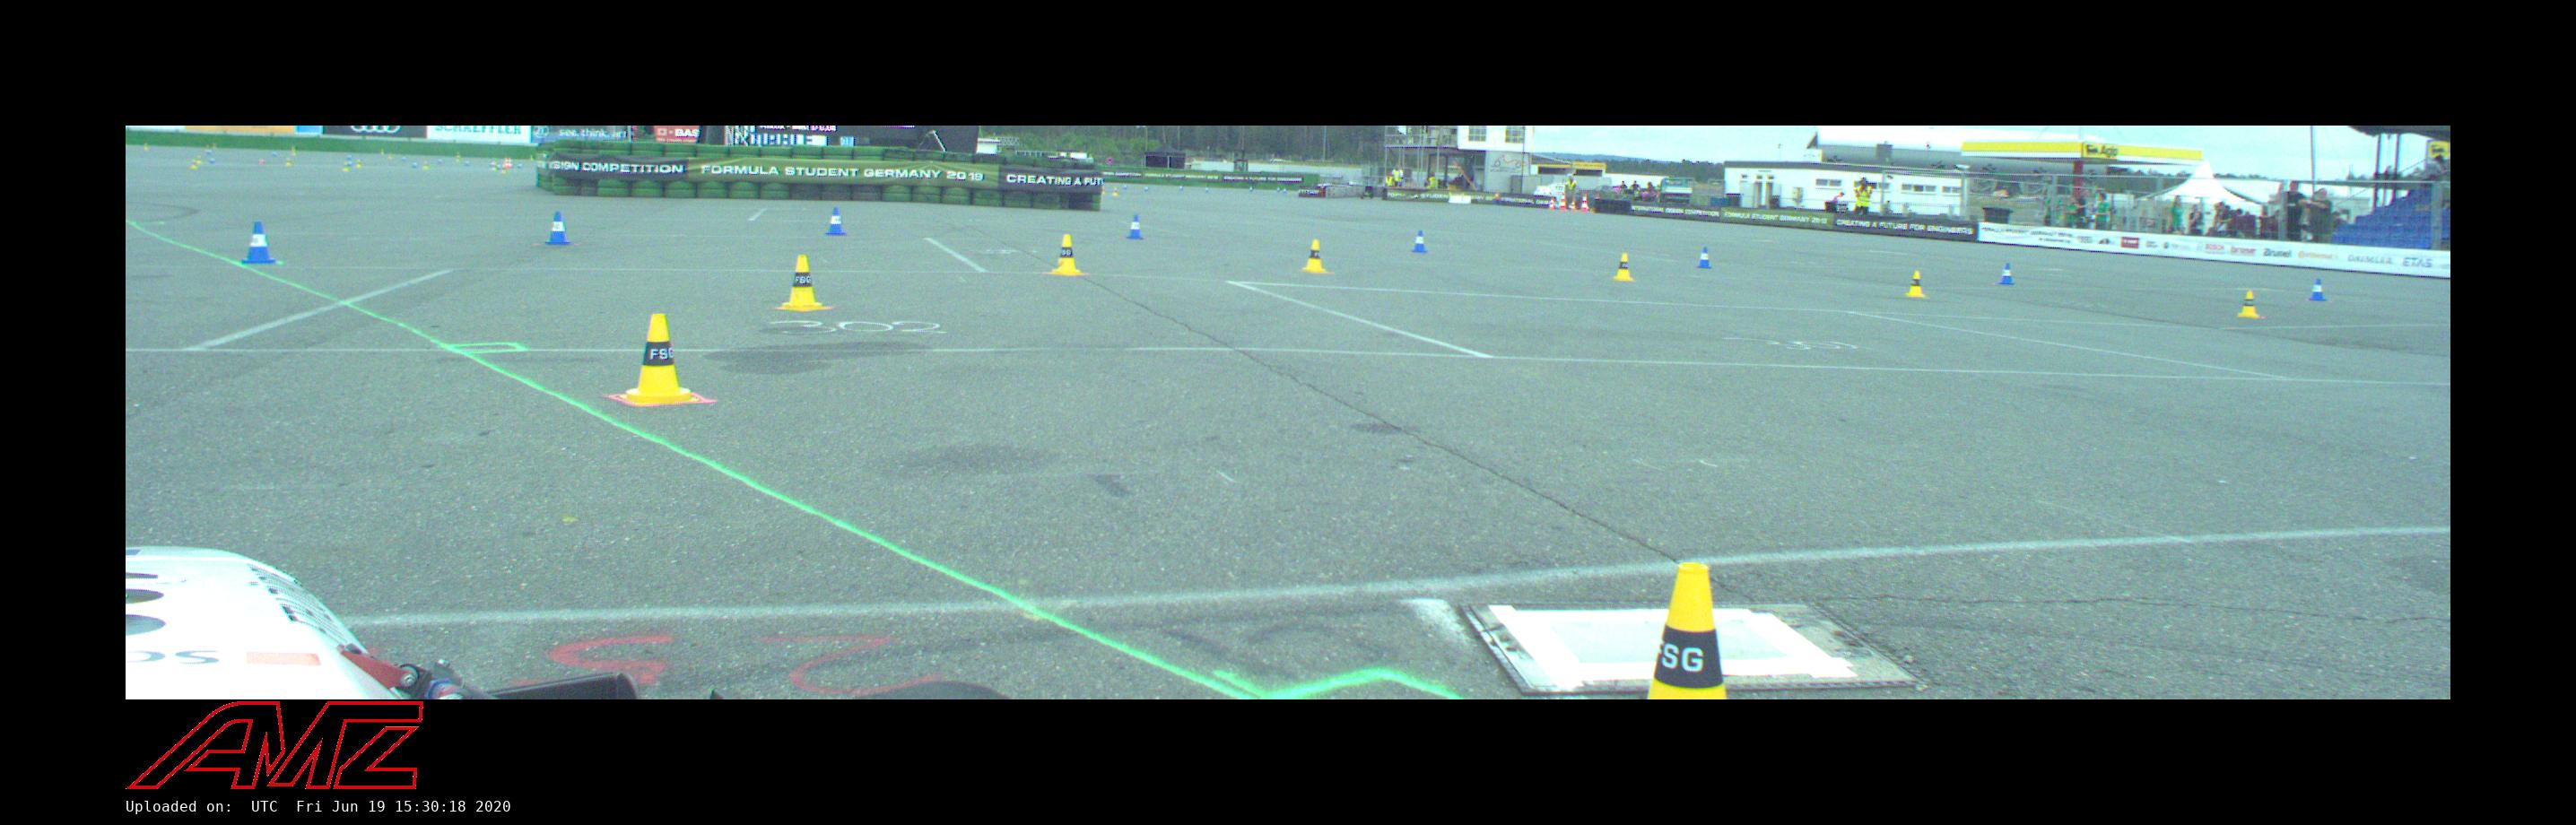blue_cone: (241, 222, 276, 264), (544, 212, 572, 246), (824, 207, 849, 235), (1410, 230, 1430, 254), (2308, 279, 2328, 301), (1127, 215, 1145, 239), (1997, 263, 2015, 285), (1695, 247, 1714, 269)
large_orange_cone: (1579, 193, 1588, 213), (1558, 194, 1566, 211), (1570, 199, 1577, 211), (1548, 198, 1554, 210)
yellow_cone: (1648, 564, 1728, 699), (619, 314, 699, 405), (776, 255, 831, 309), (1043, 235, 1088, 274), (1301, 240, 1331, 273), (2238, 291, 2259, 317), (1904, 272, 1927, 297), (1614, 254, 1634, 281), (1112, 188, 1118, 195)
